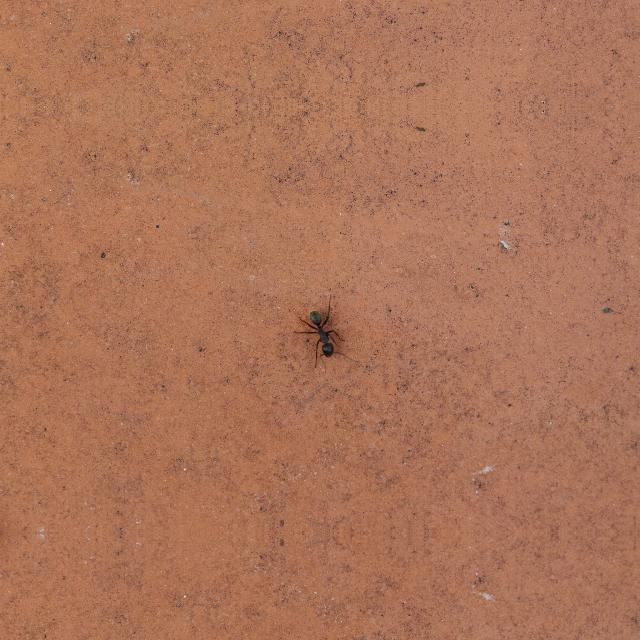Camponotus: (298, 308, 340, 366)
